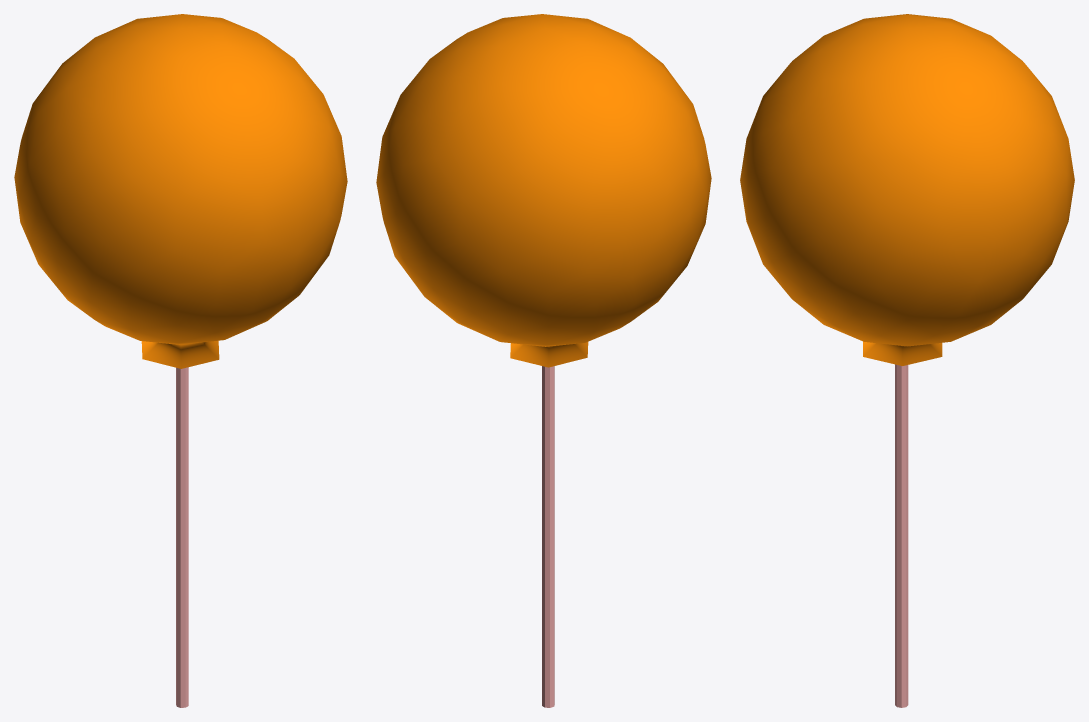
Rendered from sharik_orange 1.fbx.
The picture shows the model from 3 angles, left to right: view 1: azimuth 30°, elevation 25°; view 2: azimuth 150°, elevation 25°; view 3: azimuth 270°, elevation 25°; orthographic projection.
Parts seen in each view (by area): view 1: sharik_orange, Cylinder, Cone; view 2: sharik_orange, Cylinder, Cone; view 3: sharik_orange, Cylinder, Cone.
Part boxes in pixels (bbox=[...]): sharik_orange: bbox=[14, 14, 347, 344]; Cylinder: bbox=[176, 367, 188, 707]; Cone: bbox=[141, 340, 219, 368]; sharik_orange: bbox=[376, 14, 711, 346]; Cylinder: bbox=[542, 366, 554, 707]; Cone: bbox=[510, 342, 588, 367]; sharik_orange: bbox=[740, 14, 1074, 346]; Cylinder: bbox=[895, 364, 908, 707]; Cone: bbox=[863, 341, 942, 365].
Size of the model in its own units: 100 by 223 by 100.
